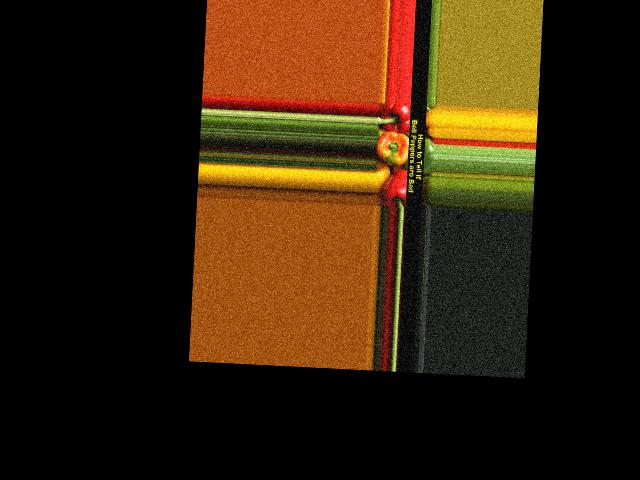bell_pepper: (376, 103, 412, 135)
